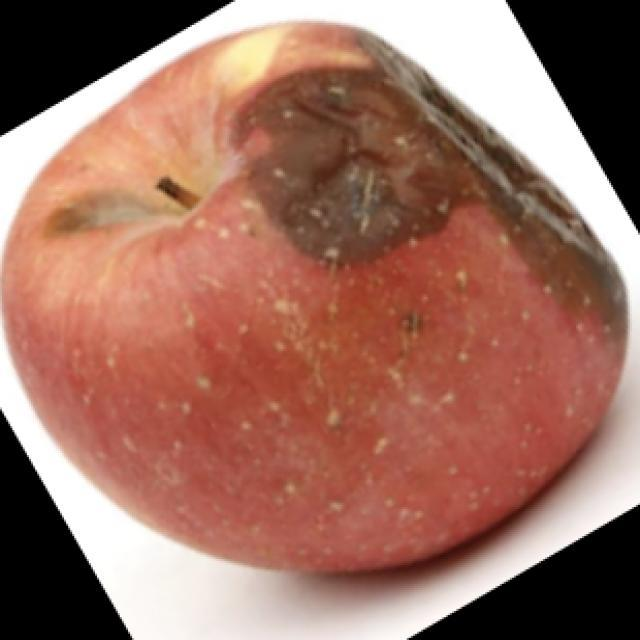Rotten: (30, 27, 602, 573)
